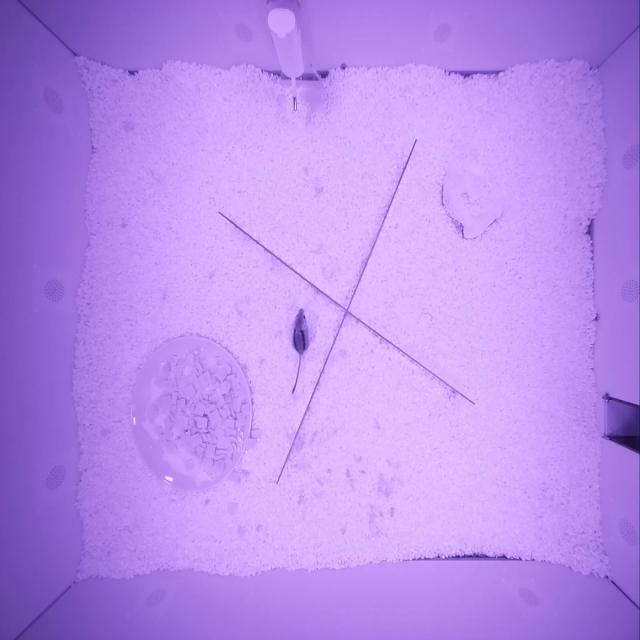pup_v_stripe: (291, 308, 309, 354)
